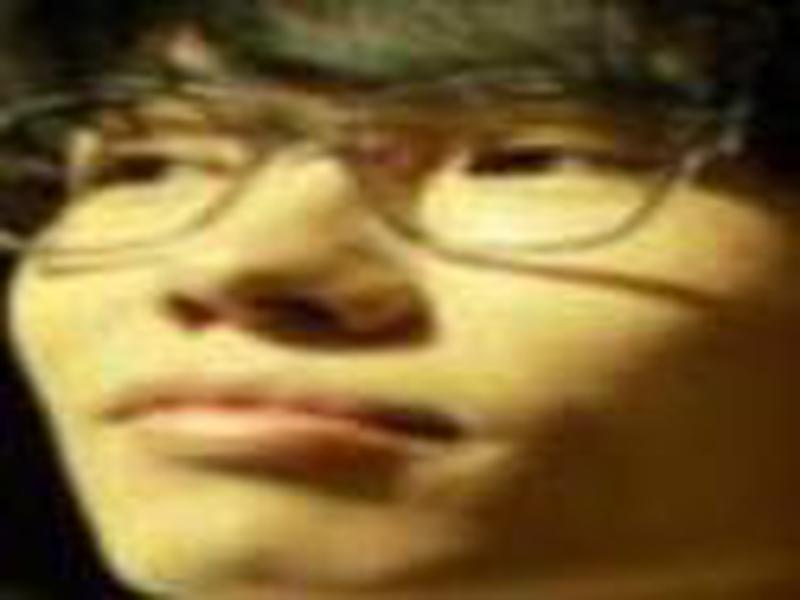without_mask: (12, 48, 751, 576)
